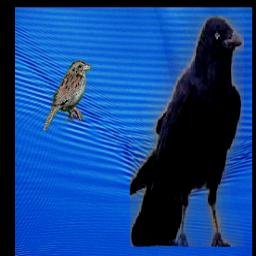Crow: (129, 15, 243, 247)
Sparrow: (44, 60, 92, 132)
